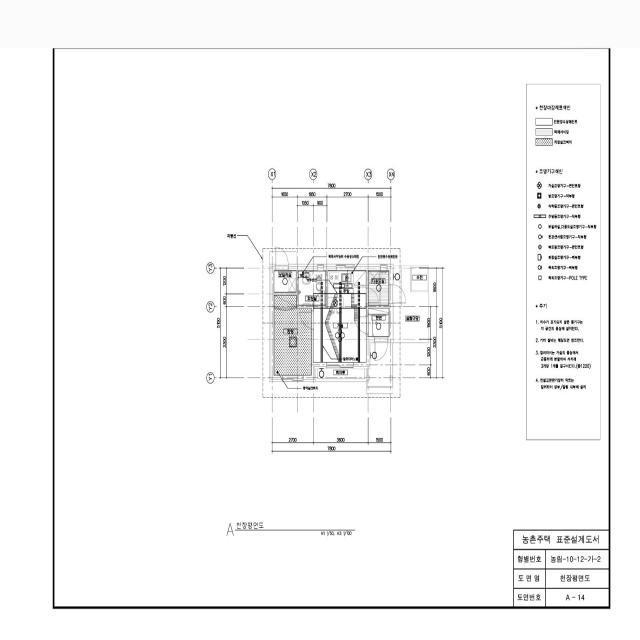space_bedroom: (274, 295, 311, 375)
space_front: (368, 308, 389, 336)
space_kitchen: (328, 271, 366, 308)
space_living_room: (313, 309, 366, 362)
space_multipurpose_space: (368, 271, 389, 305)
space_other: (274, 271, 296, 292)
space_toilet: (298, 271, 326, 305)
